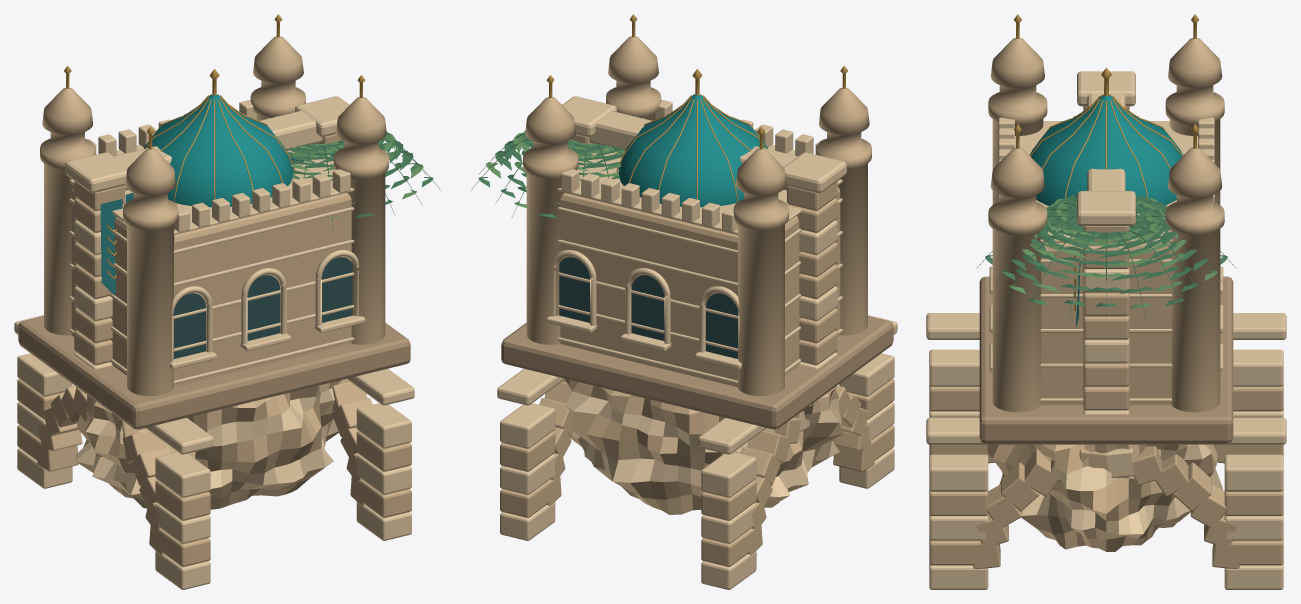
File: oasis-kit.glb
The picture shows the model from 3 angles, left to right: view 1: azimuth 30°, elevation 25°; view 2: azimuth 150°, elevation 25°; view 3: azimuth 270°, elevation 25°; orthographic projection. The views are drawn at different scales.
Visible parts, largest first — view 1: Palace_Pale warm sandstone, RockBank_Pale warm sandstone, BridgeSupport_Sunlit sandstone, Palace_Sunlit sandstone, BridgeSupport_Pale warm sandstone, Palace_Weathered stone, Palace_Oasis turquoise glazed tile, FinishGate_Sunlit sandstone, Palace_Recessed window, FinishGate_Pale warm sandstone, Palace_Aged golden brass, Palm_Date palm green (+2 smaller); view 2: Palace_Pale warm sandstone, RockBank_Pale warm sandstone, BridgeSupport_Sunlit sandstone, Palace_Sunlit sandstone, Palace_Weathered stone, BridgeSupport_Pale warm sandstone, Palace_Oasis turquoise glazed tile, FinishGate_Sunlit sandstone, FinishGate_Pale warm sandstone, Palace_Recessed window, Palace_Aged golden brass, Palm_Date palm green (+1 smaller); view 3: Palace_Pale warm sandstone, BridgeSupport_Sunlit sandstone, BridgeSupport_Pale warm sandstone, RockBank_Pale warm sandstone, Palace_Weathered stone, Palace_Oasis turquoise glazed tile, Palm_Date palm green, FinishGate_Sunlit sandstone, FinishGate_Pale warm sandstone, Palace_Sunlit sandstone, Palm_Young palm leaf, Palace_Aged golden brass.
Part boxes in pixels (x1,y1,x2,y2): Palace_Pale warm sandstone: [40, 36, 388, 396]; RockBank_Pale warm sandstone: [75, 380, 341, 509]; BridgeSupport_Sunlit sandstone: [14, 315, 414, 589]; Palace_Sunlit sandstone: [69, 100, 365, 384]; BridgeSupport_Pale warm sandstone: [17, 379, 411, 566]; Palace_Weathered stone: [18, 316, 410, 429]; Palace_Oasis turquoise glazed tile: [144, 95, 293, 207]; FinishGate_Sunlit sandstone: [65, 96, 349, 369]; Palace_Recessed window: [174, 257, 352, 358]; FinishGate_Pale warm sandstone: [74, 134, 340, 365]; Palace_Aged golden brass: [64, 14, 365, 202]; Palm_Date palm green: [274, 113, 440, 231]; Palace_Pale warm sandstone: [523, 36, 871, 396]; RockBank_Pale warm sandstone: [565, 379, 843, 514]; BridgeSupport_Sunlit sandstone: [497, 315, 897, 589]; Palace_Sunlit sandstone: [546, 100, 842, 384]; Palace_Weathered stone: [501, 316, 893, 429]; BridgeSupport_Pale warm sandstone: [500, 379, 894, 566]; Palace_Oasis turquoise glazed tile: [618, 95, 767, 207]; FinishGate_Sunlit sandstone: [562, 96, 846, 369]; FinishGate_Pale warm sandstone: [568, 134, 837, 365]; Palace_Recessed window: [559, 257, 737, 358]; Palace_Aged golden brass: [546, 14, 847, 202]; Palm_Date palm green: [471, 113, 637, 230]; Palace_Pale warm sandstone: [988, 38, 1224, 412]; BridgeSupport_Sunlit sandstone: [926, 313, 1286, 589]; BridgeSupport_Pale warm sandstone: [929, 385, 1283, 568]; RockBank_Pale warm sandstone: [987, 444, 1222, 551]; Palace_Weathered stone: [979, 276, 1233, 443]; Palace_Oasis turquoise glazed tile: [1029, 95, 1183, 212]; Palm_Date palm green: [976, 195, 1236, 321]; FinishGate_Sunlit sandstone: [1077, 71, 1135, 414]; FinishGate_Pale warm sandstone: [1083, 106, 1129, 410]; Palace_Sunlit sandstone: [989, 117, 1223, 402]; Palm_Young palm leaf: [1009, 198, 1217, 308]; Palace_Aged golden brass: [1014, 14, 1198, 204].
Bounding box in the file's own units: 7.08 × 8.66 × 6.1.
